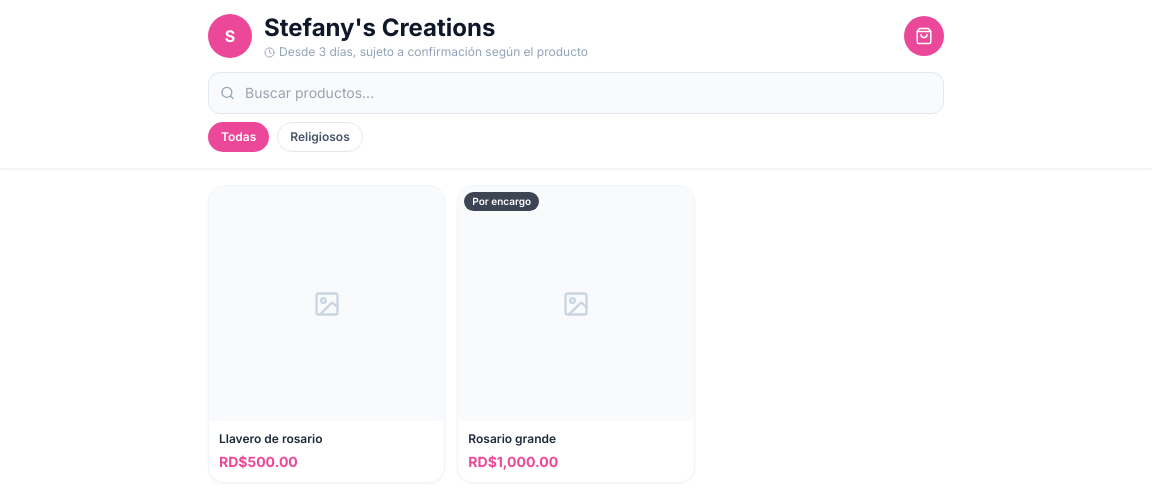
Scenario: CatalogView — carrito público › busca y filtra por categoría
In the field with placeholder "Buscar productos…": (576, 93) top-left (208, 72), bottom-right (944, 114), type "rosario grande"
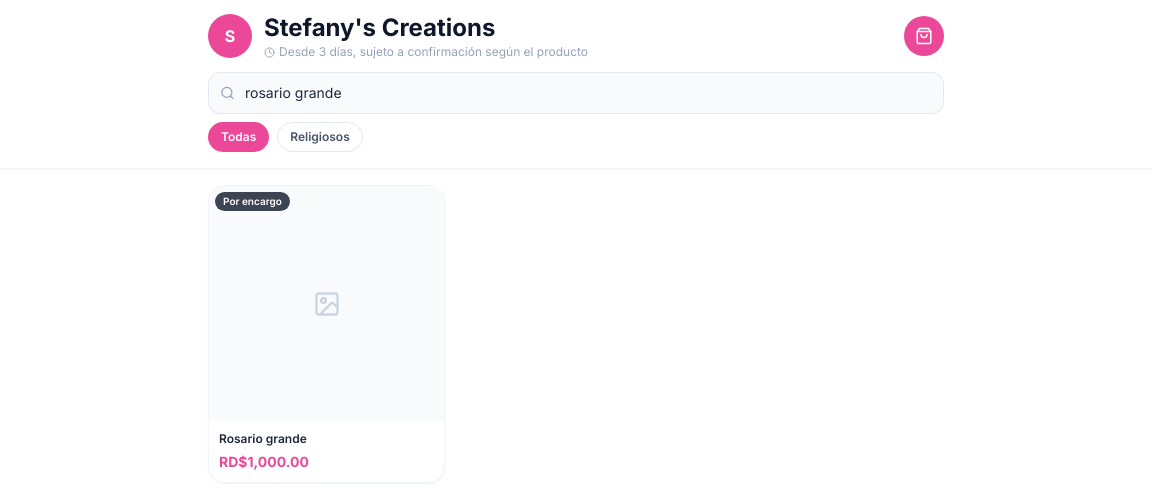
Check: the text "Rosario grande" is shown, box top-left (219, 431), bottom-right (307, 446)
Check: the button "Llavero de rosario" is gone
